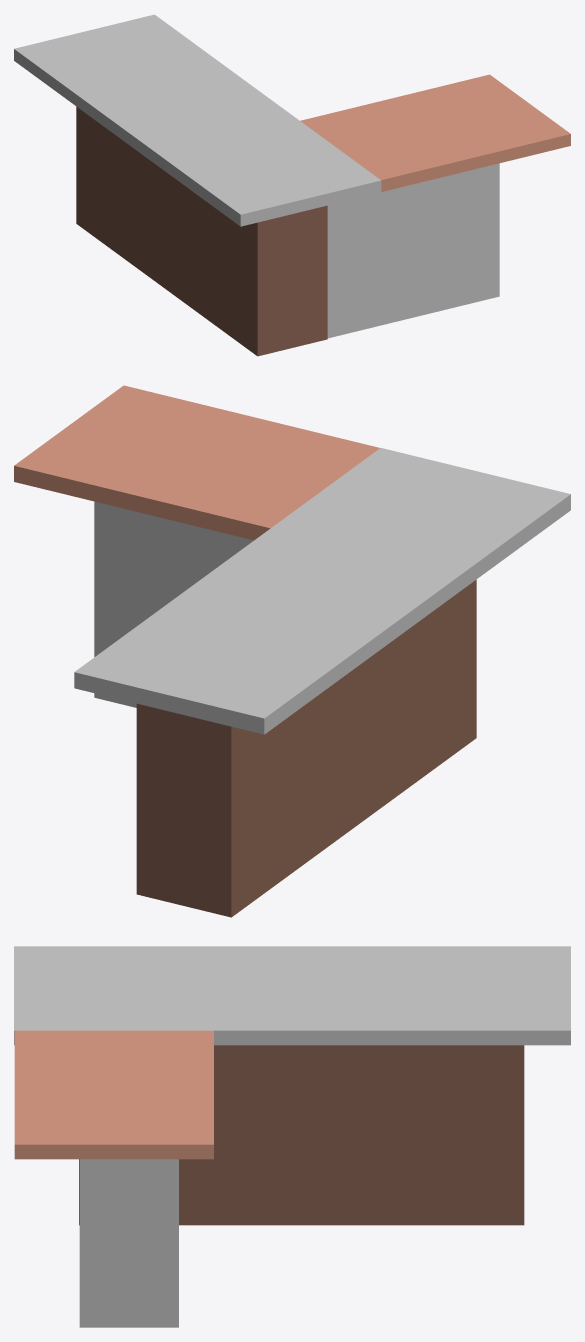
File: Lada-sklep.fbx
The picture shows the model from 3 angles, top to bottom: view 1: azimuth 30°, elevation 25°; view 2: azimuth 150°, elevation 25°; view 3: azimuth 270°, elevation 25°; orthographic projection. The views are drawn at different scales.
Visible parts, largest first — view 1: Cube.002, Cube, Cube.001, Cube.003; view 2: Cube.002, Cube, Cube.003, Cube.001; view 3: Cube, Cube.002, Cube.003, Cube.001.
Boxes of the visible parts, bbox=[...] form: Cube.002: bbox=[14, 14, 381, 226]; Cube: bbox=[76, 106, 327, 356]; Cube.001: bbox=[327, 163, 499, 338]; Cube.003: bbox=[300, 74, 570, 191]; Cube.002: bbox=[74, 448, 570, 734]; Cube: bbox=[136, 579, 476, 917]; Cube.003: bbox=[14, 385, 379, 540]; Cube.001: bbox=[94, 501, 253, 707]; Cube: bbox=[79, 1045, 524, 1225]; Cube.002: bbox=[14, 946, 570, 1045]; Cube.003: bbox=[14, 1030, 213, 1159]; Cube.001: bbox=[79, 1159, 178, 1327].
Bounding box in the file's own units: 696 × 345 × 826.
